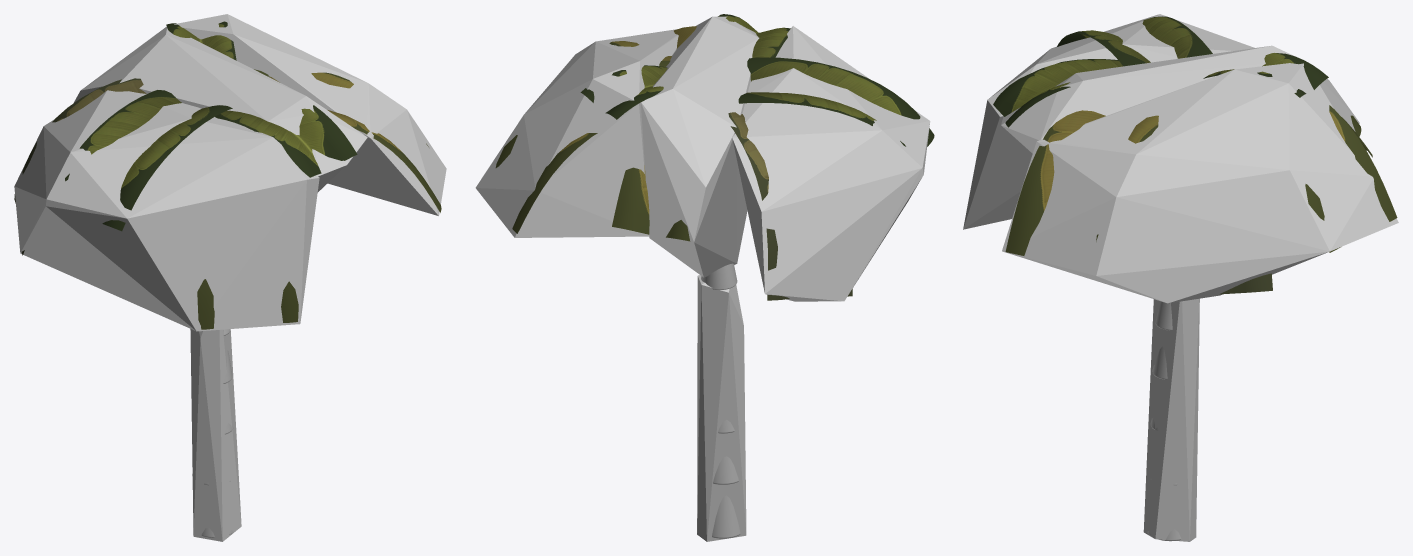
Rendered from SM_CoconutTree_02.fbx.
The picture shows the model from 3 angles, left to right: view 1: azimuth 30°, elevation 25°; view 2: azimuth 150°, elevation 25°; view 3: azimuth 270°, elevation 25°; orthographic projection. The views are drawn at different scales.
Visible parts, largest first — view 1: SM_CoconutTree_02_ConvexHulls, SM_CoconutTree_02; view 2: SM_CoconutTree_02_ConvexHulls, SM_CoconutTree_02; view 3: SM_CoconutTree_02_ConvexHulls, SM_CoconutTree_02.
Part boxes in pixels (x1=…): SM_CoconutTree_02_ConvexHulls: x1=14, y1=14, x2=446, y2=541; SM_CoconutTree_02: x1=14, y1=21, x2=441, y2=537; SM_CoconutTree_02_ConvexHulls: x1=475, y1=16, x2=930, y2=541; SM_CoconutTree_02: x1=495, y1=14, x2=934, y2=538; SM_CoconutTree_02_ConvexHulls: x1=963, y1=14, x2=1398, y2=541; SM_CoconutTree_02: x1=993, y1=16, x2=1397, y2=541.
Bounding box in the file's own units: 645 × 608 × 757.
Materials: 3 (1 with a texture image).
